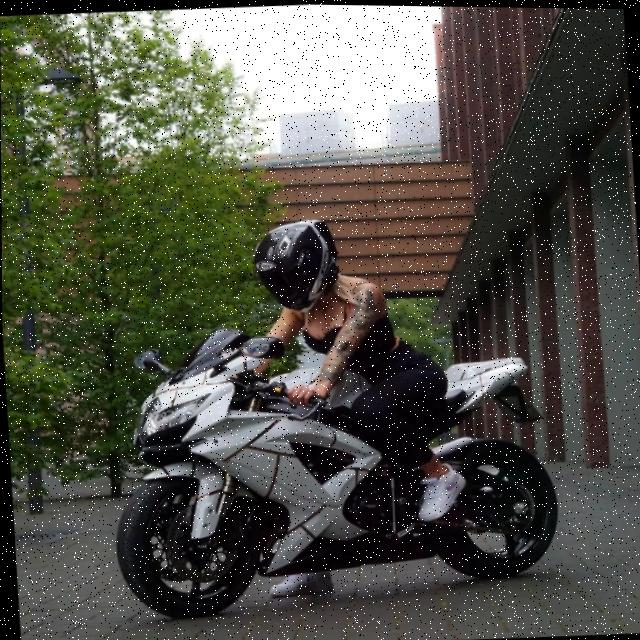helmet: (245, 213, 345, 318)
